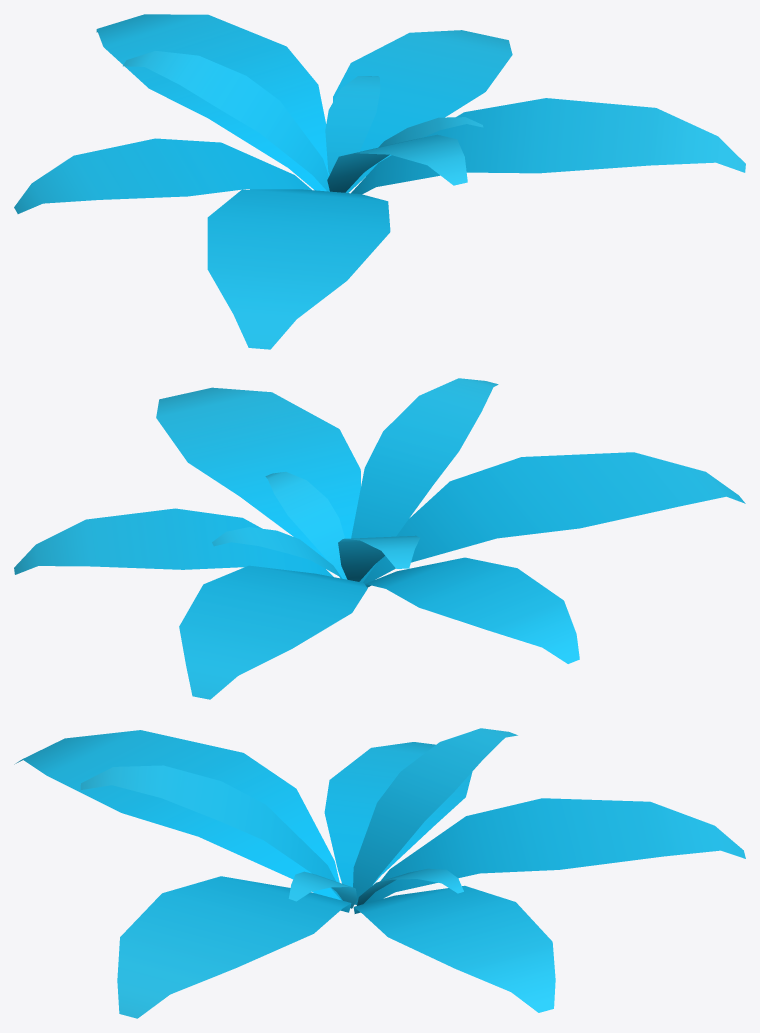
The model's file is plant3_005.fbx.
3 renders of one model, top to bottom at view 1: azimuth 30°, elevation 25°; view 2: azimuth 150°, elevation 25°; view 3: azimuth 270°, elevation 25°, orthographic. The views are drawn at different scales.
Parts seen in each view (by area): view 1: plant3.005; view 2: plant3.005; view 3: plant3.005.
Part boxes in pixels (x1=…): plant3.005: x1=14, y1=14, x2=745, y2=349; plant3.005: x1=14, y1=378, x2=745, y2=699; plant3.005: x1=14, y1=728, x2=745, y2=1018.
Size of the model in its own units: 37.82 by 7.92 by 40.95.
